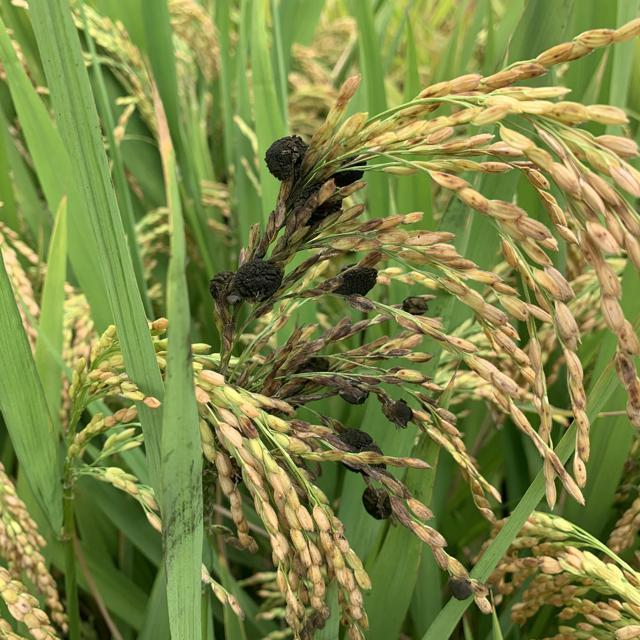Leaf_Scald: (266, 130, 366, 186), (206, 259, 286, 308), (330, 423, 390, 474), (334, 262, 379, 300), (361, 483, 396, 525), (381, 396, 418, 429), (445, 570, 478, 604), (400, 293, 431, 320)
